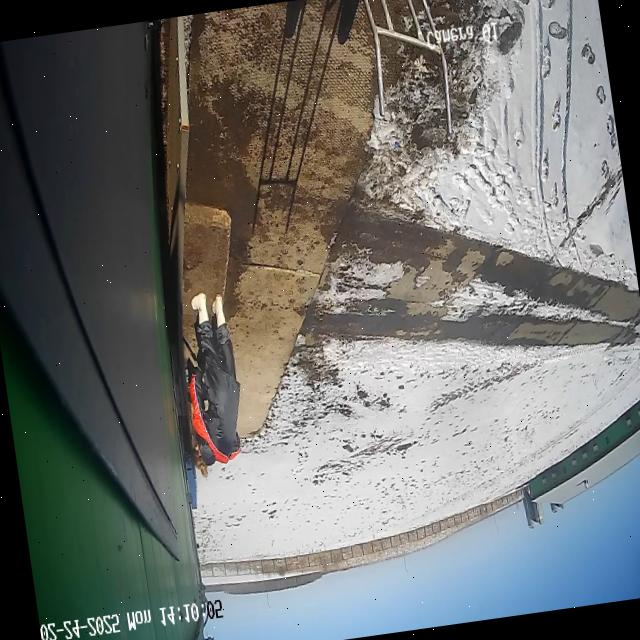Red uniform: (170, 286, 252, 472)
